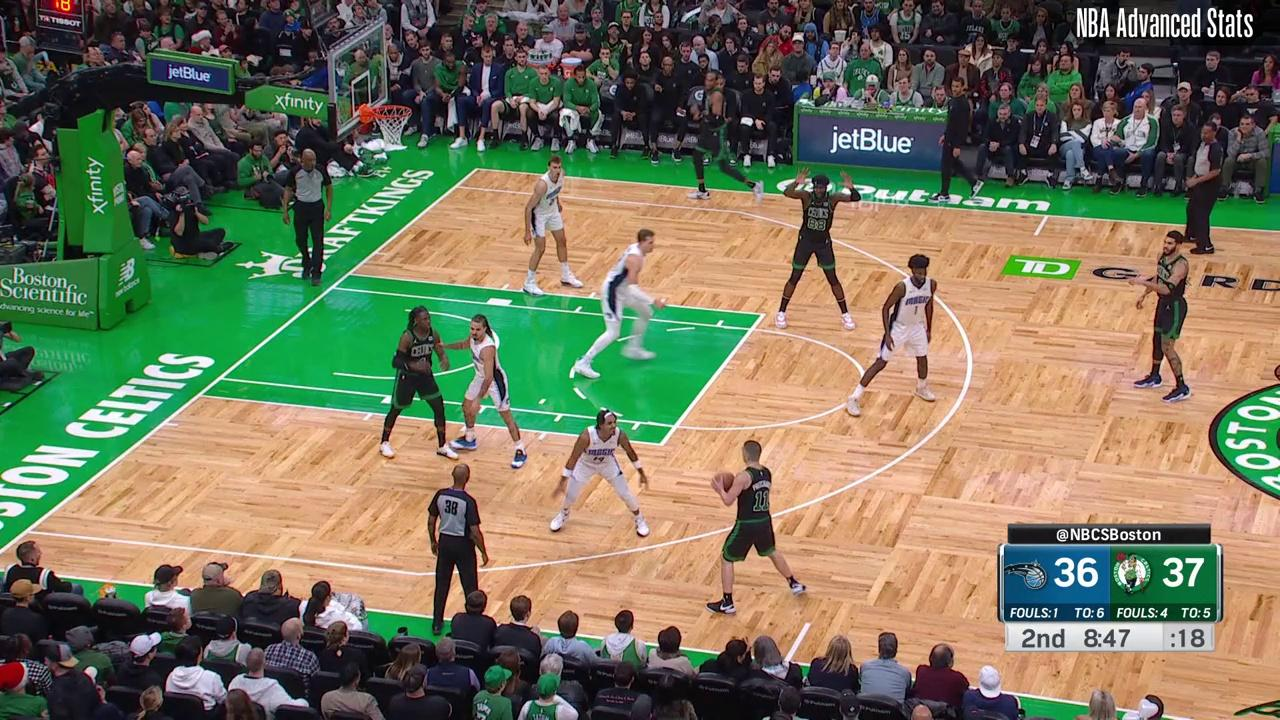3_dx: (451, 183, 459, 191)
3_sx: (22, 526, 33, 536)
b_dx: (472, 164, 482, 174)
free_adx: (758, 310, 768, 320)
free_asx: (656, 439, 668, 449)
free_bdx: (344, 270, 354, 279)
free_bsx: (195, 391, 205, 400)
mid_dx: (1031, 231, 1040, 240)
mid_sx: (802, 616, 815, 629)
referee: (426, 465, 490, 636), (283, 147, 336, 286), (1182, 121, 1223, 257)
team: (706, 439, 806, 616), (776, 169, 861, 330), (379, 305, 459, 458), (679, 70, 765, 199), (1137, 230, 1193, 403)
team1: (847, 253, 937, 417), (571, 228, 668, 380), (544, 409, 651, 539), (445, 315, 532, 472), (526, 155, 583, 294)
timer: (1081, 624, 1136, 652)
